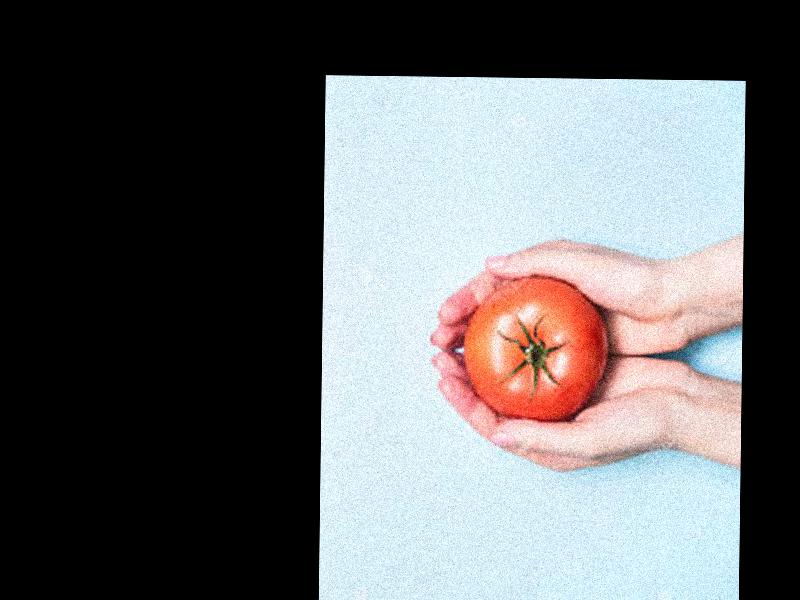Tomato: (463, 275, 607, 425)
